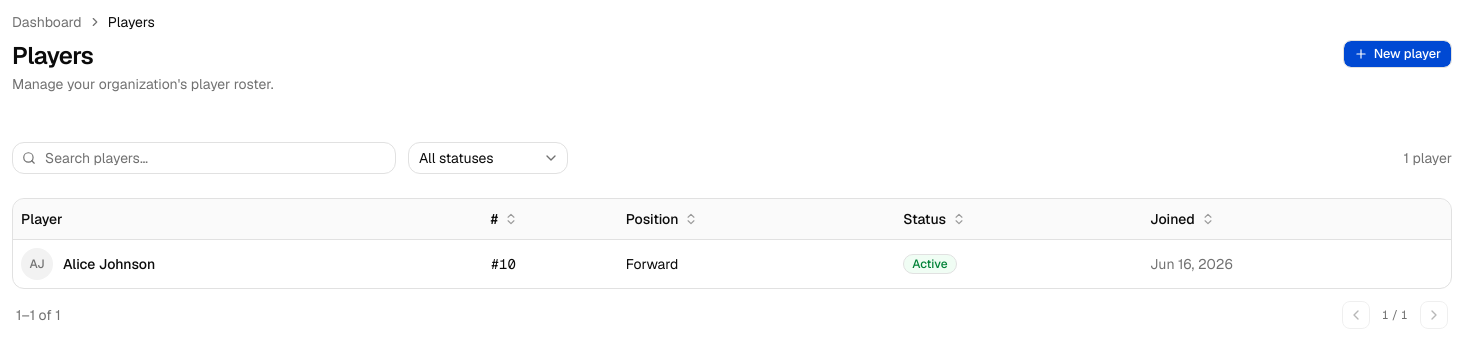
PlayersPage — P1-1: search input sync › shows Clear button when user types in search input
The width and height of the screenshot is (1464, 346).
Check: the text "Alice Johnson" is shown, box [63,254,155,274]
Check: the button "clear" is not shown
Type "a" into the field labelled "Search players…".
click(204, 158); type("a")  # box [12,142,396,174]
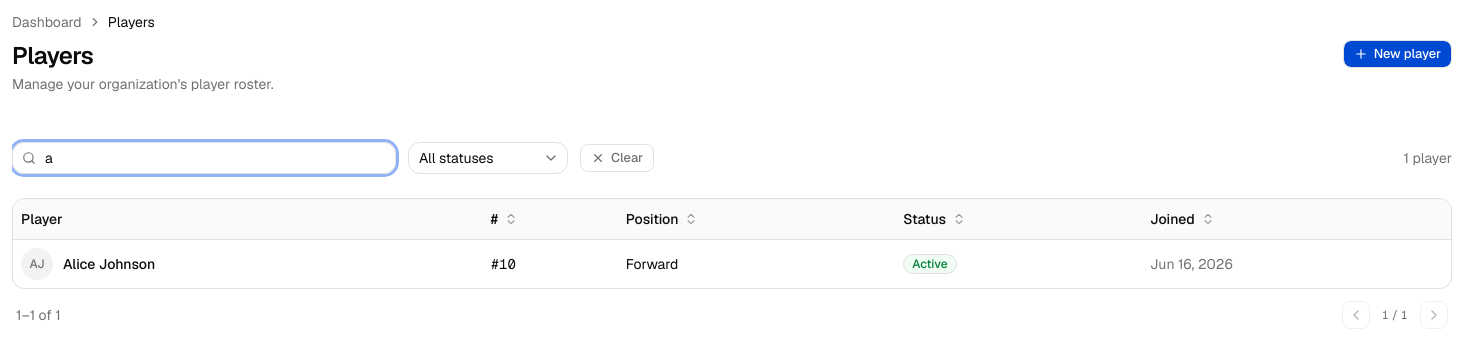
Check: the button "Clear" is shown, box [580,144,654,172]
